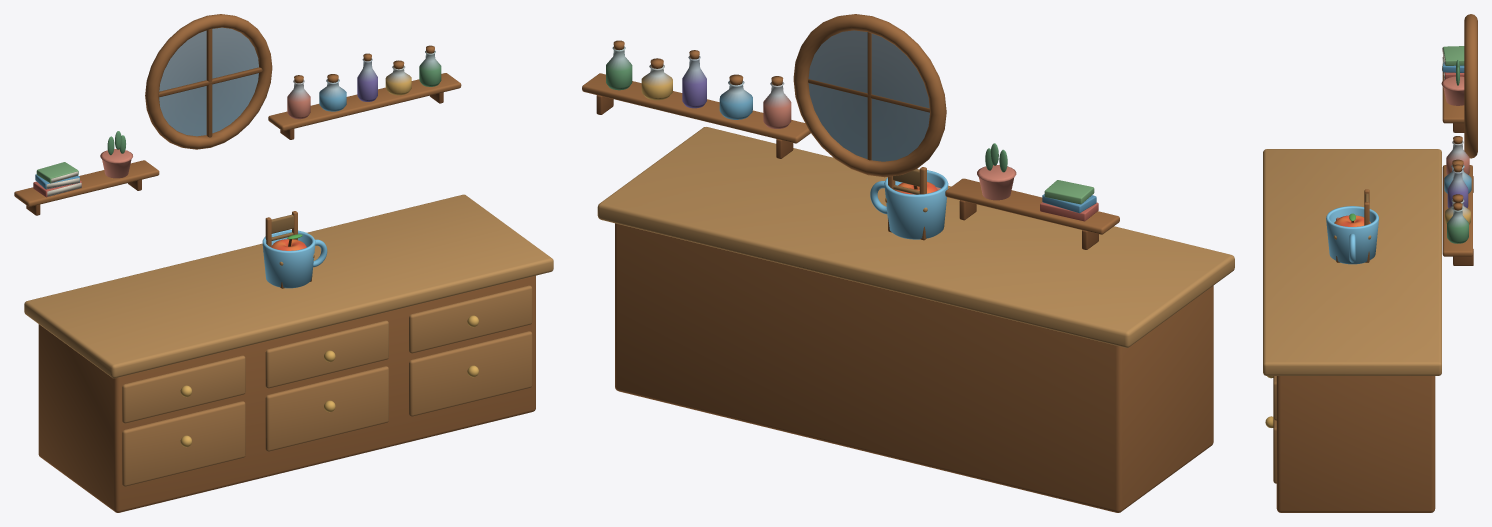
Rendered from lab.glb.
3 renders of one model, left to right at view 1: azimuth 30°, elevation 25°; view 2: azimuth 150°, elevation 25°; view 3: azimuth 270°, elevation 25°, orthographic. The views are drawn at different scales.
Visible parts, largest first — view 1: room, cup, chair; view 2: room, cup, chair; view 3: room, cup, apple, chair.
Boxes of the visible parts, left/top/right/bottom form: room: left=14, top=14, right=553, bottom=512; cup: left=262, top=230, right=327, bottom=288; chair: left=263, top=211, right=314, bottom=288; room: left=582, top=14, right=1234, bottom=512; cup: left=870, top=170, right=948, bottom=239; chair: left=885, top=167, right=940, bottom=240; room: left=1263, top=14, right=1477, bottom=512; cup: left=1326, top=206, right=1378, bottom=264; apple: left=1334, top=213, right=1370, bottom=226; chair: left=1334, top=189, right=1371, bottom=262.
Bounding box in the file's own units: 7.4 × 6.1 × 3.12.
